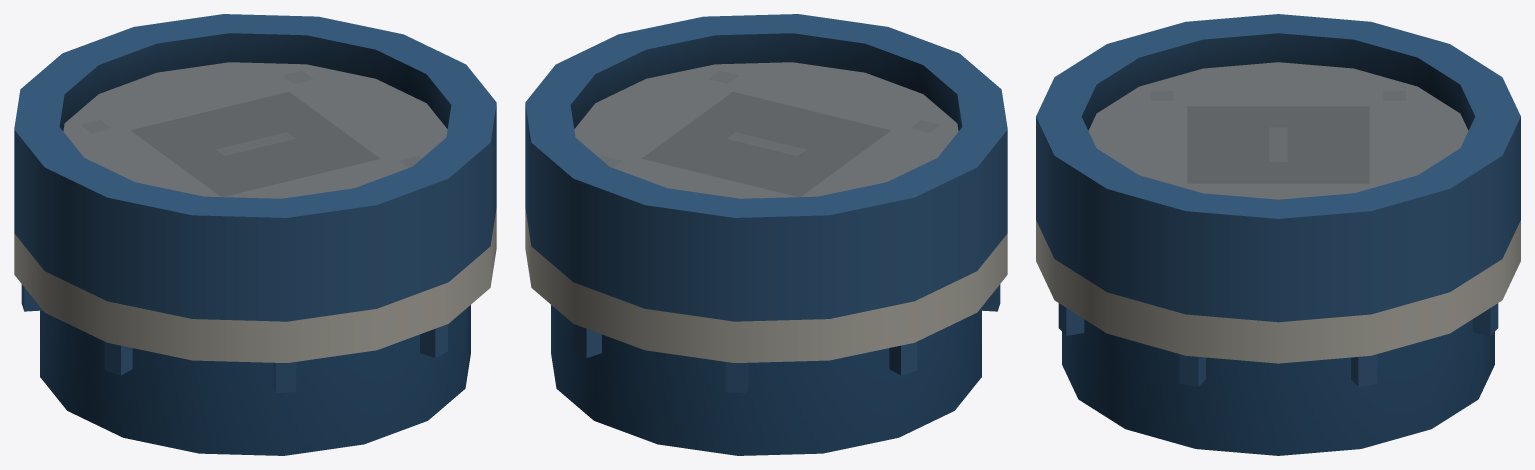
File: pipe.riser.blue.glb
3 renders of one model, left to right at view 1: azimuth 30°, elevation 25°; view 2: azimuth 150°, elevation 25°; view 3: azimuth 270°, elevation 25°, orthographic.
Parts seen in each view (by area): view 1: pipe_riser_blue; view 2: pipe_riser_blue; view 3: pipe_riser_blue.
Part boxes in pixels (left/top/right/bottom): pipe_riser_blue: left=14, top=14, right=496, bottom=455; pipe_riser_blue: left=525, top=14, right=1007, bottom=455; pipe_riser_blue: left=1036, top=14, right=1520, bottom=455.
Size of what is drawn, in the model's own units: 2.13 by 1.2 by 2.13.
